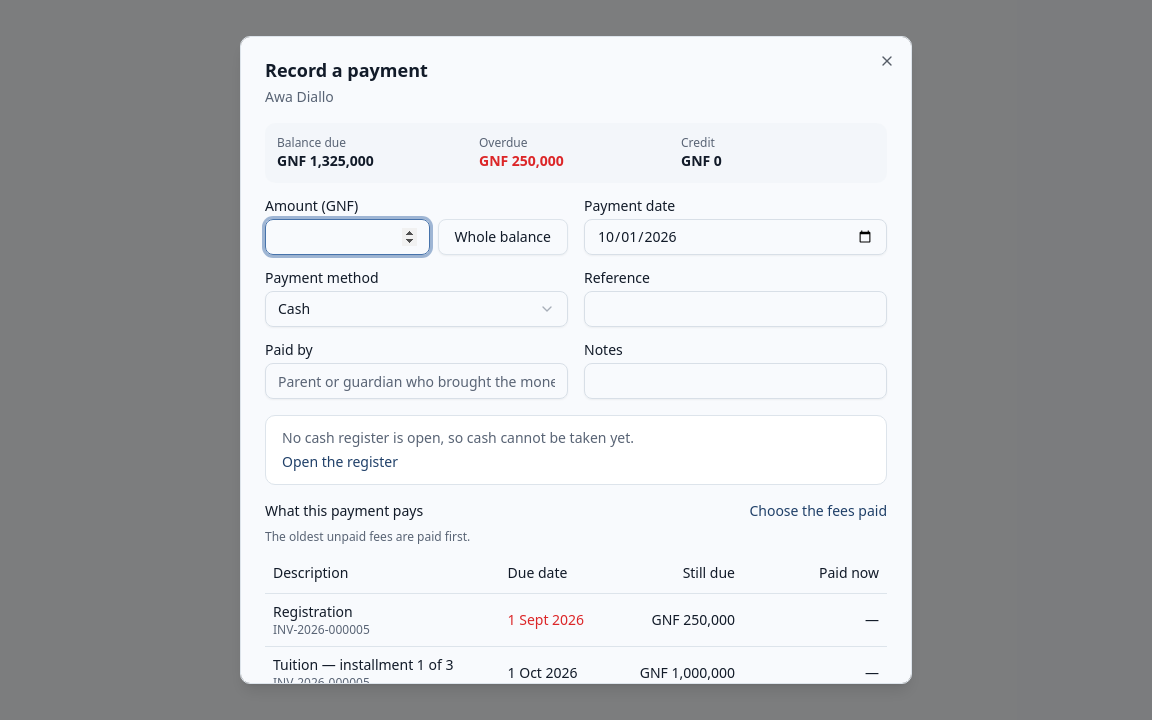
Scenario: Cash in the payment form › cannot take cash while no register is open
The image size is (1152, 720).
Expected: the text "No cash register is open" is shown, [282, 428, 634, 447]
Click the dropdown named "Payment method" at x=294, y=308, box [265, 291, 568, 327]
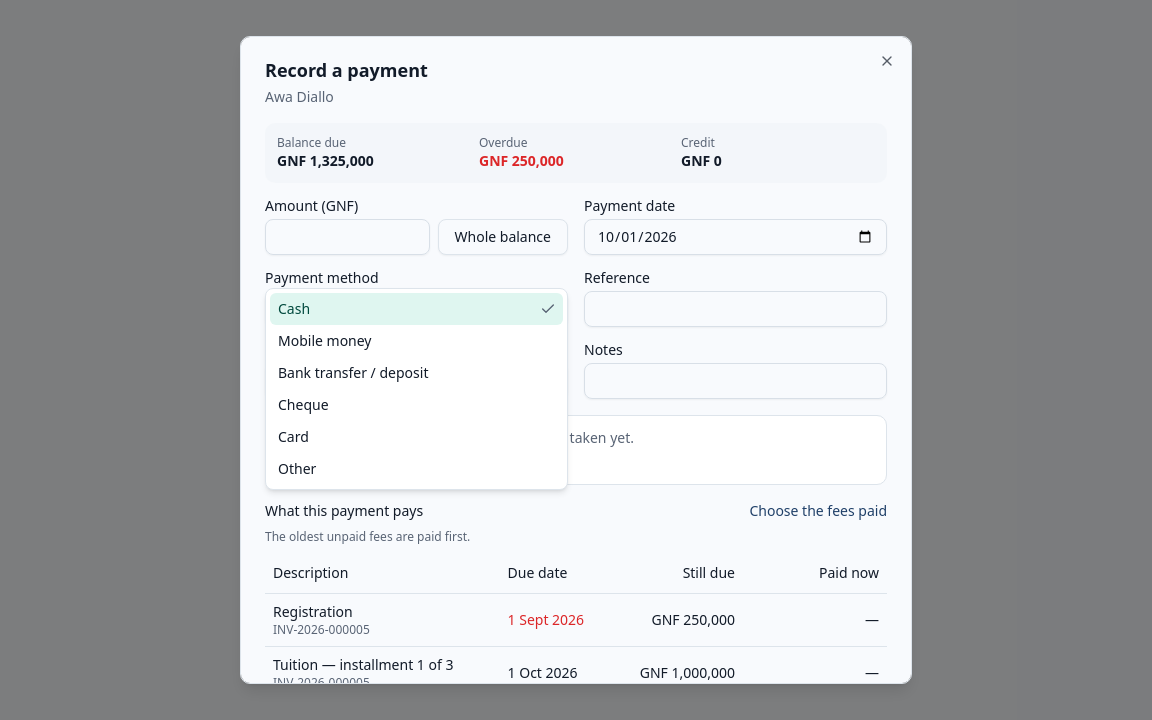
Click the option "Mobile money" at x=325, y=340, box [278, 331, 372, 350]
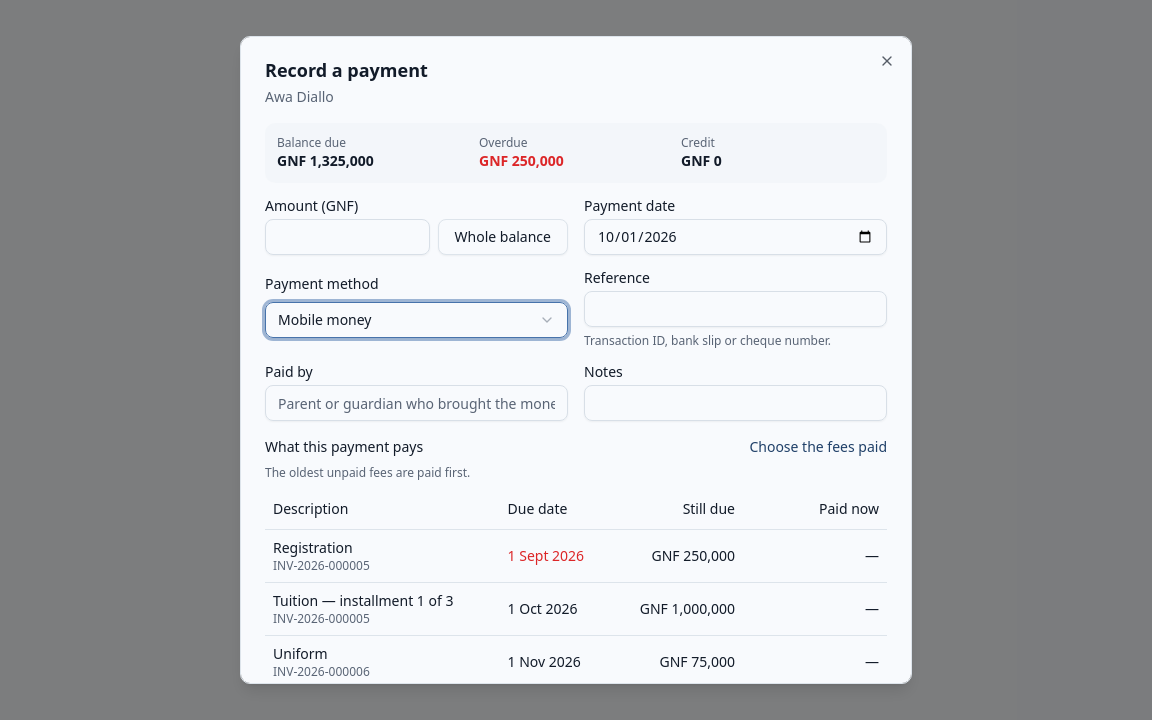
Now the text "No cash register is open" is gone
